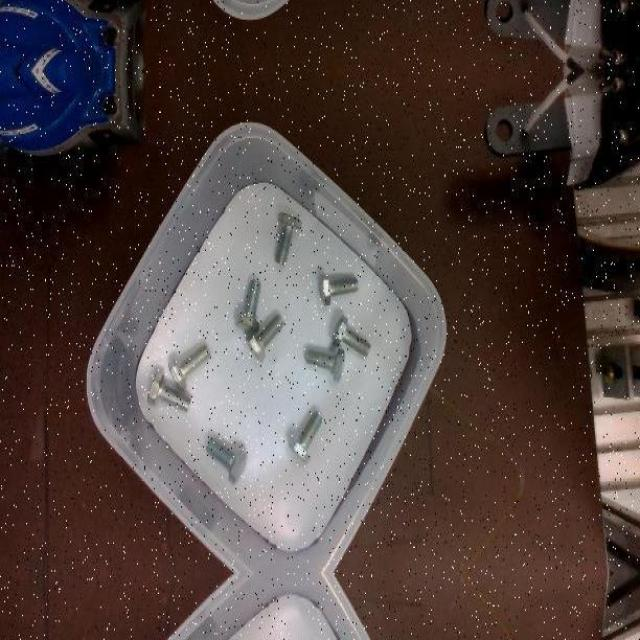screw: (170, 343, 212, 391), (206, 436, 247, 484), (289, 410, 324, 463), (148, 371, 192, 412), (248, 314, 285, 361), (333, 316, 372, 358), (235, 278, 262, 333), (275, 211, 302, 266), (307, 349, 345, 383), (320, 274, 359, 307)
